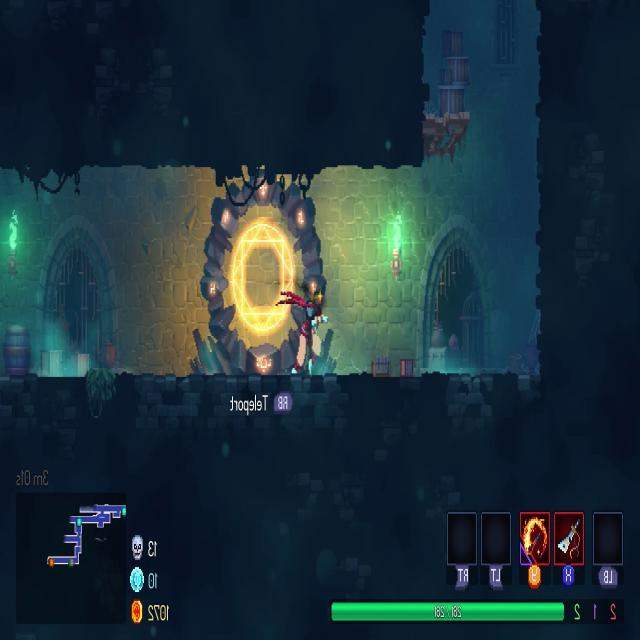agents: (286, 289, 323, 382)
wood_floor: (421, 114, 470, 156)
